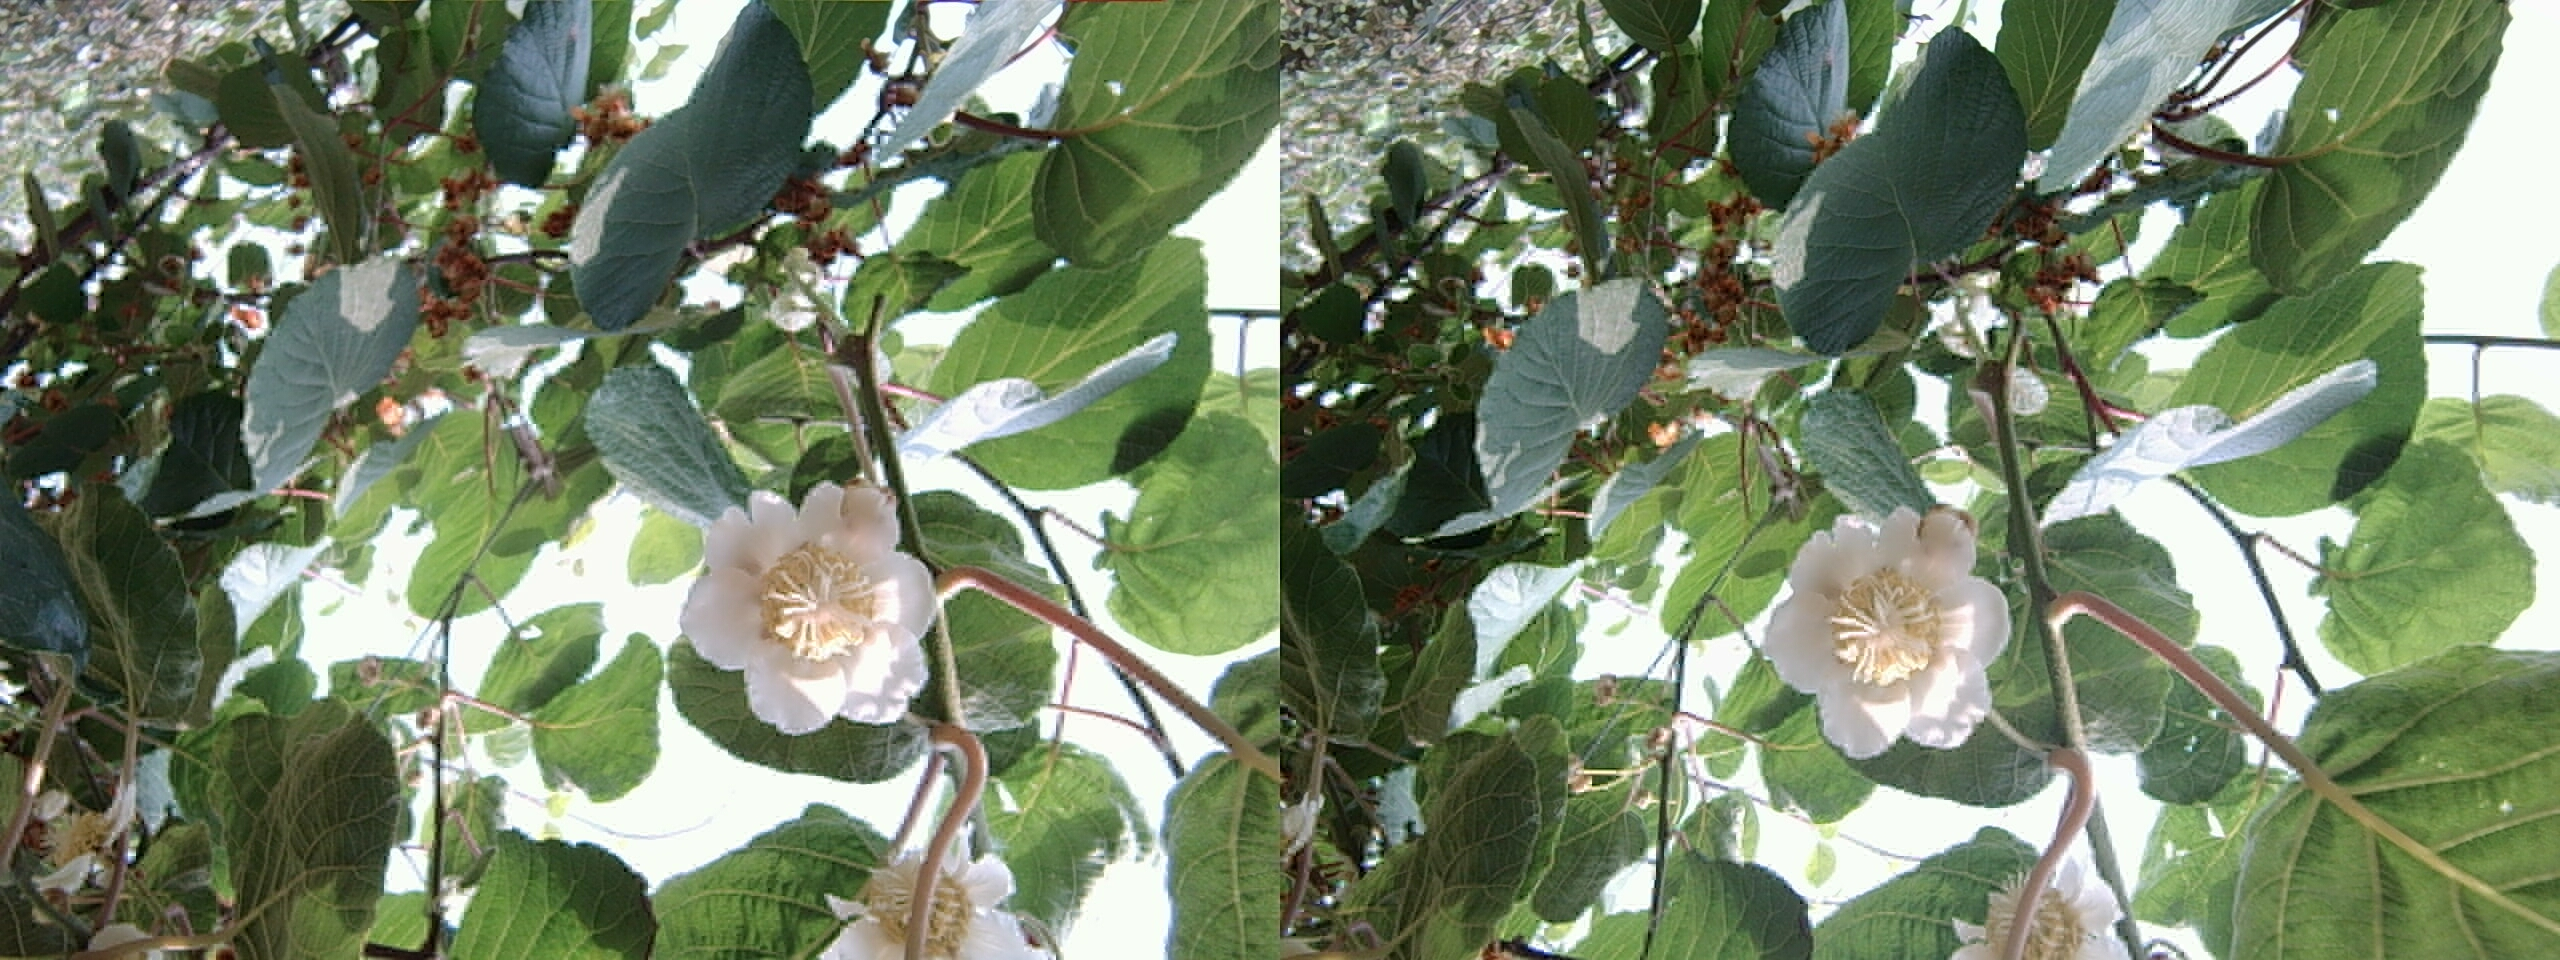flower: (674, 473, 929, 728), (1758, 491, 2007, 749)
